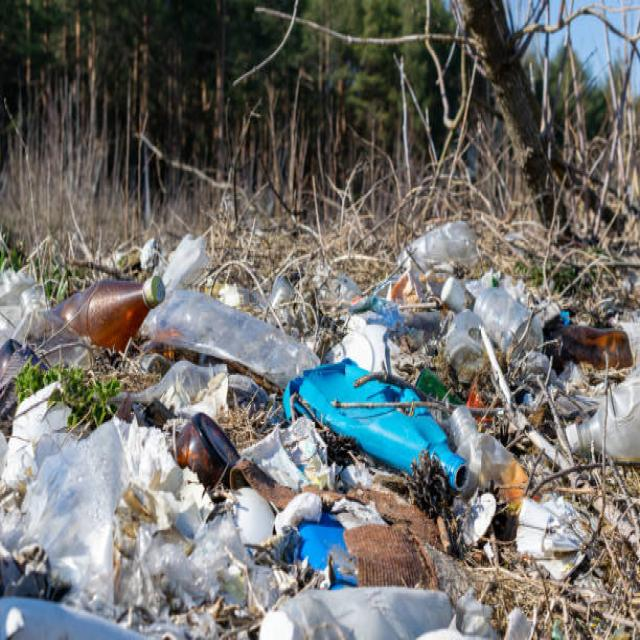glass: (23, 266, 186, 372)
metal: (294, 366, 467, 505)
plastic: (1, 466, 315, 602)
